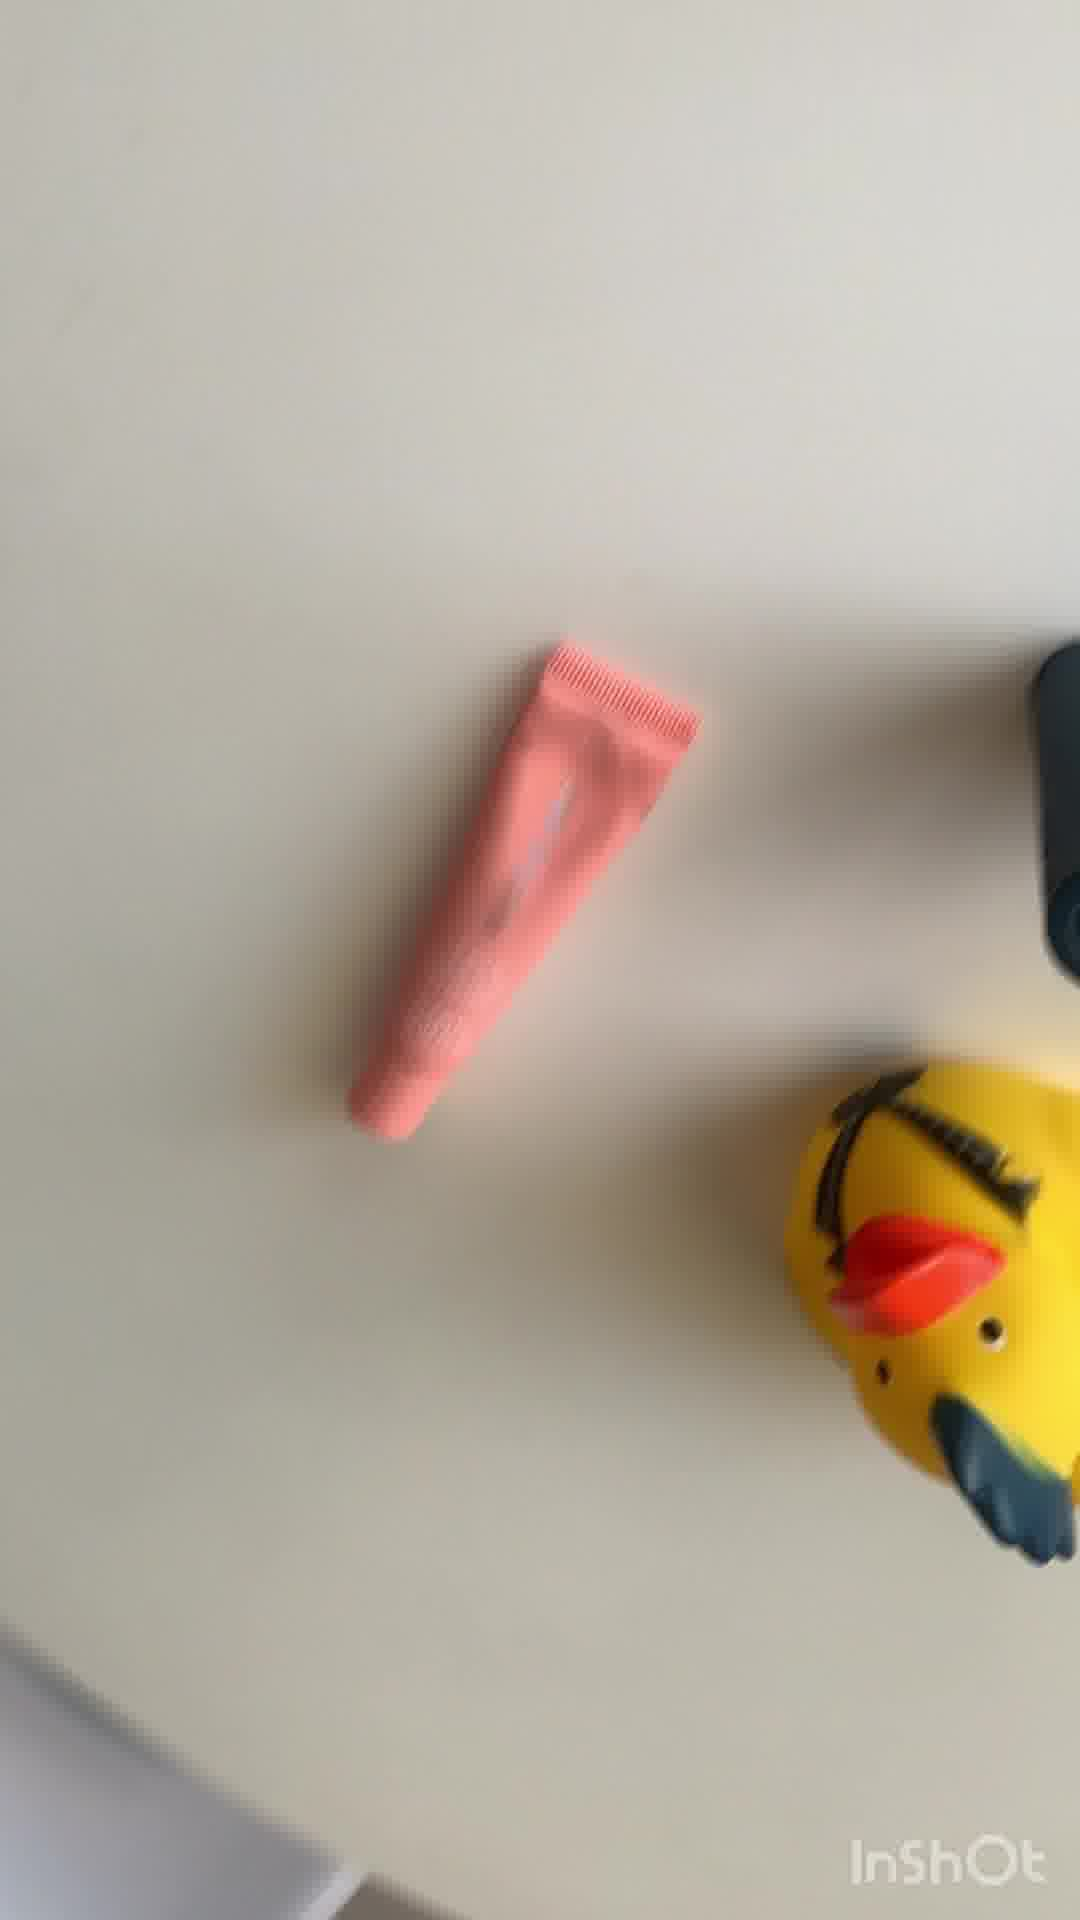duck: (790, 1067, 1080, 1585)
glo: (1026, 634, 1080, 1000)
lip balm: (336, 640, 695, 1153)
